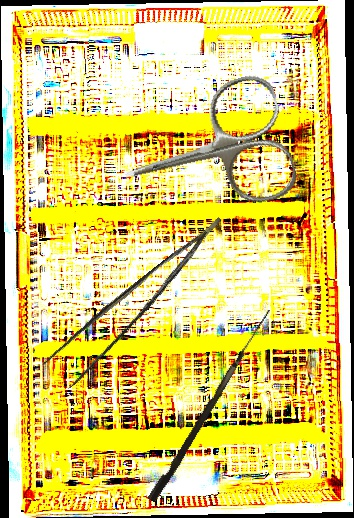Hook Surgical: (147, 304, 271, 505)
Iris Scissors: (109, 70, 301, 235)
Tissue Forceps: (33, 217, 246, 396)
